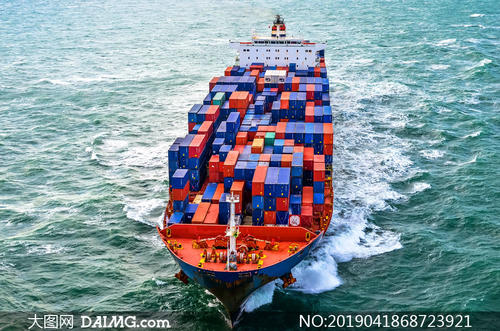Cargoship: (161, 9, 337, 295)
